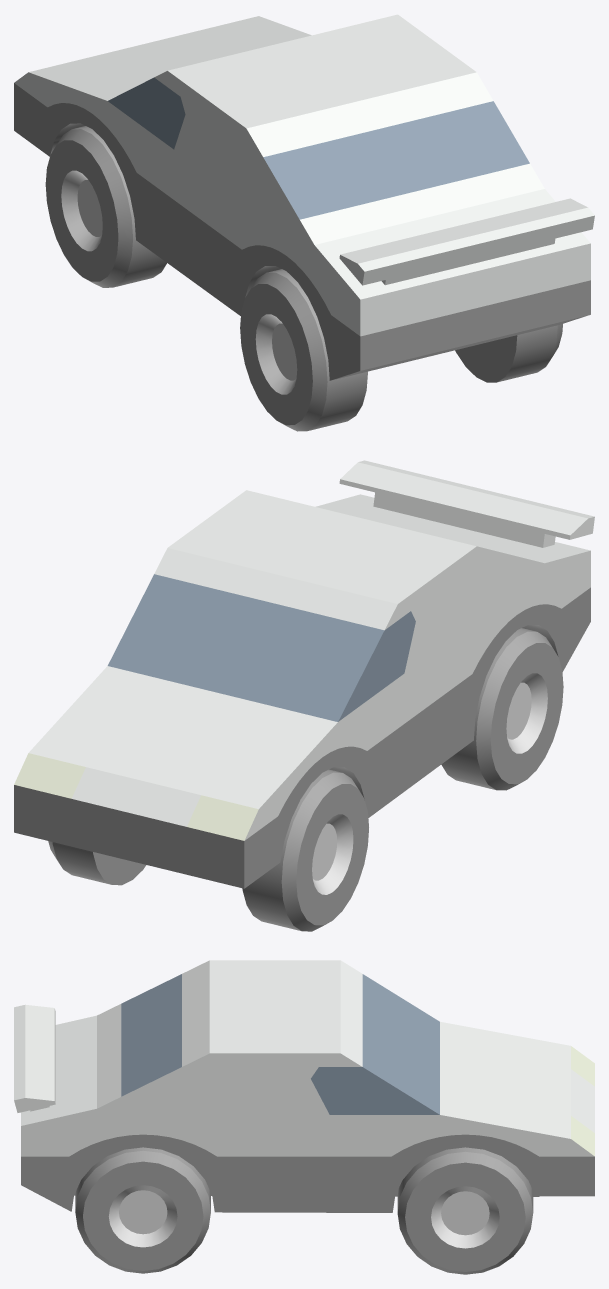
Rendered from carSports.gltf.
3 views of the same model, one above another, from view 1: azimuth 30°, elevation 25°; view 2: azimuth 150°, elevation 25°; view 3: azimuth 270°, elevation 25° (orthographic). The views are drawn at different scales.
Parts seen in each view (by area): view 1: body 8, wheelBackLeft 8, wheelFrontLeft 8, wheelBackRight 8; view 2: body 8, wheelFrontLeft 8, wheelBackLeft 8, wheelFrontRight 8; view 3: body 8, wheelFrontRight 8, wheelBackRight 8.
Boxes of the visible parts, left/top/right/bottom form: body 8: left=14, top=14, right=594, bottom=380; wheelBackLeft 8: left=240, top=269, right=367, bottom=431; wheelFrontLeft 8: left=45, top=126, right=166, bottom=287; wheelBackRight 8: left=455, top=324, right=562, bottom=382; body 8: left=14, top=460, right=594, bottom=888; wheelFrontLeft 8: left=242, top=769, right=368, bottom=931; wheelBackLeft 8: left=441, top=628, right=563, bottom=790; wheelFrontRight 8: left=48, top=841, right=146, bottom=885; body 8: left=14, top=960, right=594, bottom=1212; wheelFrontRight 8: left=397, top=1147, right=533, bottom=1274; wheelBackRight 8: left=75, top=1147, right=210, bottom=1273.
Size of the model in its own units: 0.495 by 0.5064 by 1.2.
